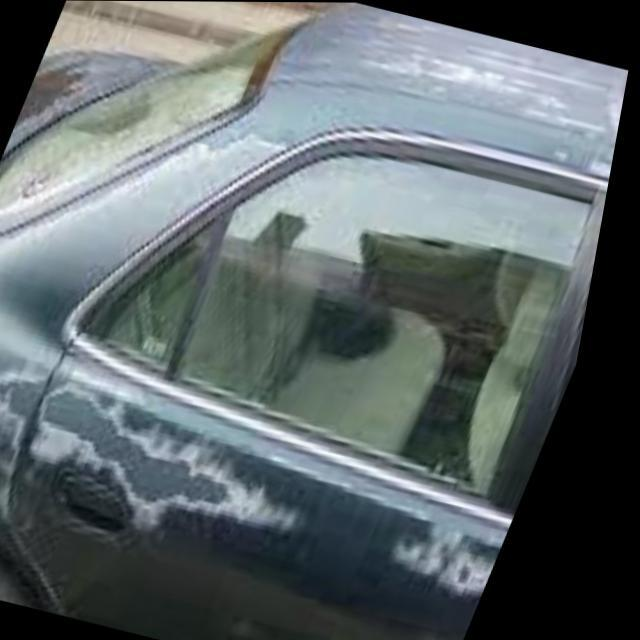rub: (0, 348, 301, 525), (356, 36, 599, 137), (405, 513, 518, 594), (548, 143, 620, 180)
